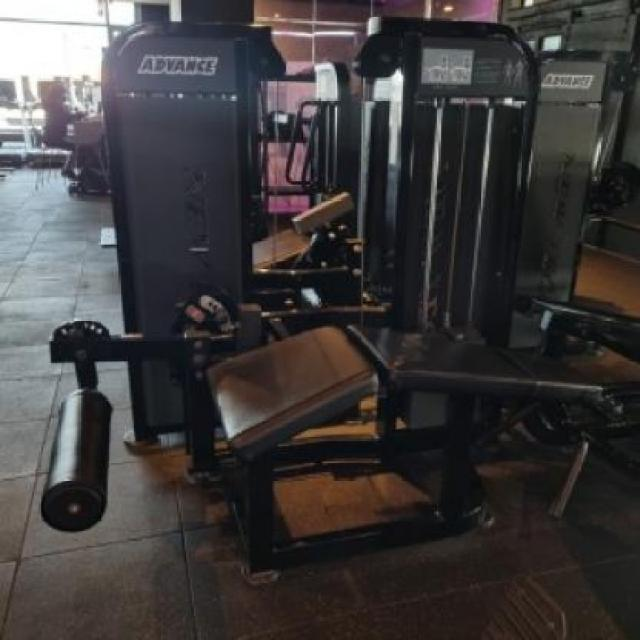reg curl machine: (31, 18, 640, 580)
